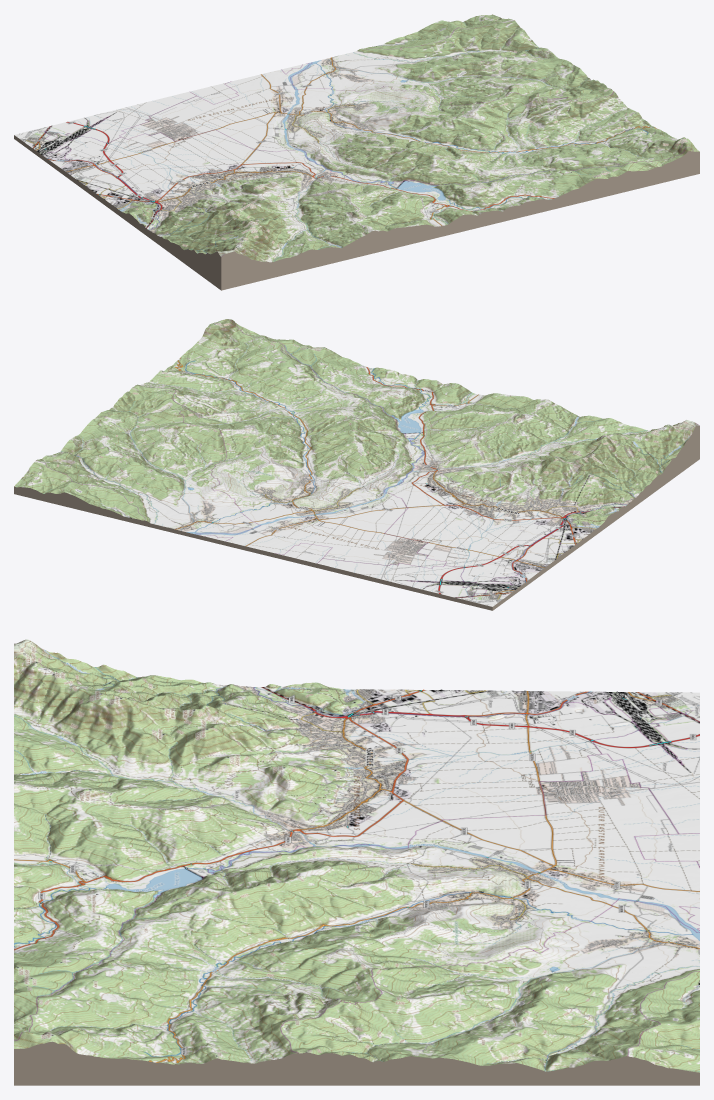
3 views of the same model, one above another, from view 1: azimuth 30°, elevation 25°; view 2: azimuth 150°, elevation 25°; view 3: azimuth 270°, elevation 25° (orthographic). The views are drawn at different scales.
Parts seen in each view (by area): view 1: BV50-E5 Săcele; view 2: BV50-E5 Săcele; view 3: BV50-E5 Săcele.
Part boxes in pixels (box(x1,y1,x2,y2)): BV50-E5 Săcele: box(14, 14, 699, 290); BV50-E5 Săcele: box(14, 319, 699, 610); BV50-E5 Săcele: box(14, 639, 699, 1085).
Bounding box in the file's own units: 20001 × 1444 × 15000.
Materials: 8 (1 with a texture image).
